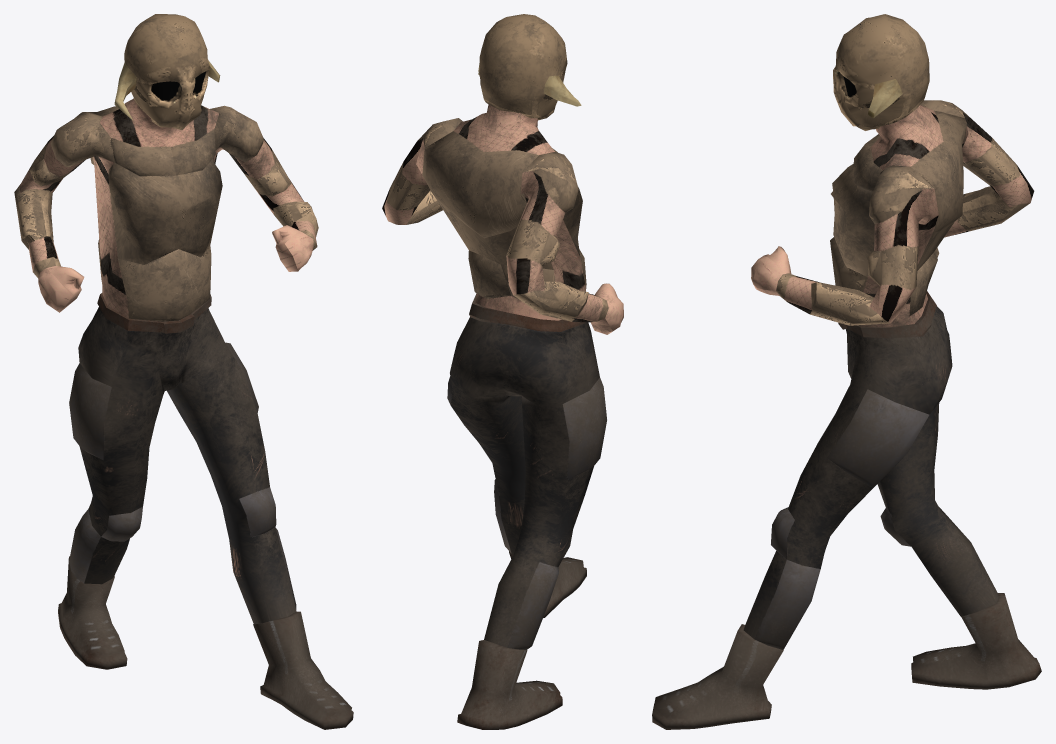
Rendered from Anim_ataque_d1_npc1.0018.obj.
The picture shows the model from 3 angles, left to right: view 1: azimuth 30°, elevation 25°; view 2: azimuth 150°, elevation 25°; view 3: azimuth 270°, elevation 25°; orthographic projection. The views are drawn at different scales.
Parts seen in each view (by area): view 1: NPC2; view 2: NPC2; view 3: NPC2.
Part boxes in pixels (x1,y1,x2,y2): NPC2: [14, 14, 353, 729]; NPC2: [382, 14, 623, 729]; NPC2: [652, 14, 1041, 729].
Bounding box in the file's own units: 3.71 × 9.26 × 4.83.
